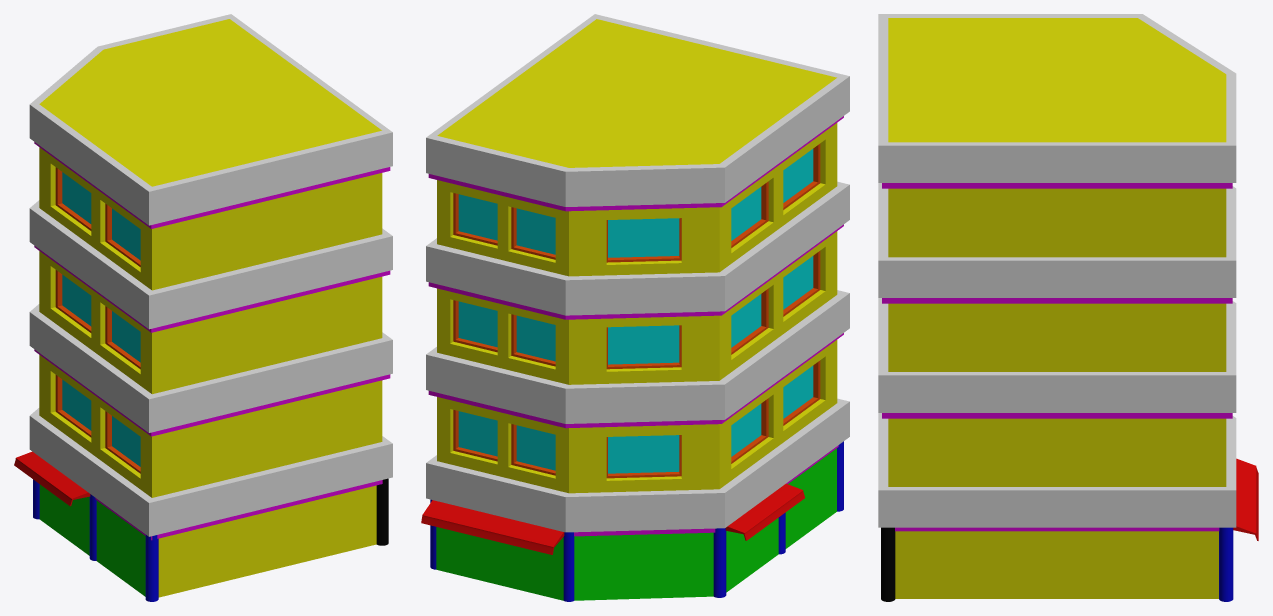
The model's file is Building_18.fbx.
3 renders of one model, left to right at view 1: azimuth 30°, elevation 25°; view 2: azimuth 150°, elevation 25°; view 3: azimuth 270°, elevation 25°, orthographic. The views are drawn at different scales.
Parts seen in each view (by area): view 1: Building_18; view 2: Building_18; view 3: Building_18.
Boxes of the visible parts, x1=… form: Building_18: x1=14, y1=14, x2=392, y2=601; Building_18: x1=421, y1=14, x2=849, y2=601; Building_18: x1=878, y1=14, x2=1258, y2=601.
Bounding box in the file's own units: 187 × 282 × 213.
